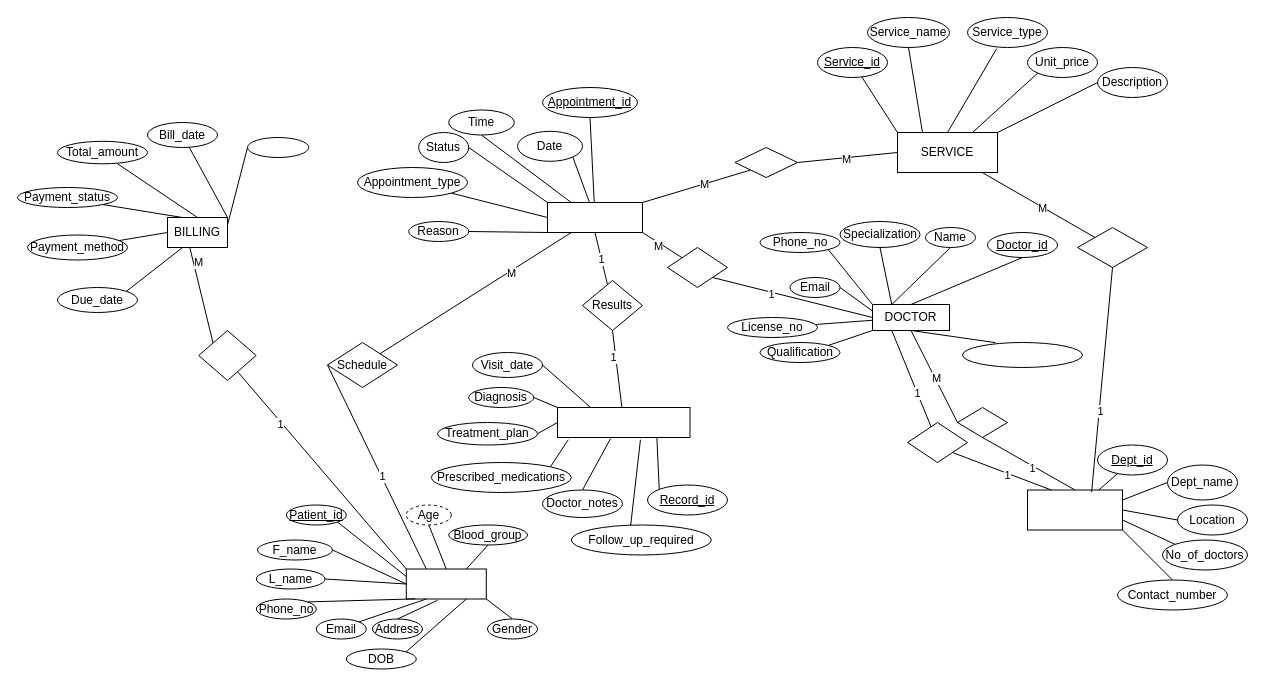
Some shapes in this 1265 by 687 pixel diagram are drawn without their labels. The shapes that lost their labels are listed below. From the top down, each one's box as (x1, y1, x2, y2) in pixels, then its label:
(246, 136, 309, 158): Bill_id
(734, 146, 798, 178): Include
(546, 202, 642, 232): APPOINTMENT
(666, 246, 728, 288): Have
(1076, 226, 1148, 268): Offers
(198, 330, 256, 380): Receive
(962, 342, 1082, 368): Years_of_experience
(556, 406, 690, 438): MEDICAL_RECORD
(906, 422, 968, 462): Manage
(956, 406, 1008, 438): Work
(1026, 489, 1122, 530): DEPARTMENT
(405, 568, 486, 599): PATIENT
